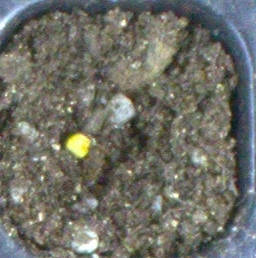chilli seed: (66, 133, 91, 158)
